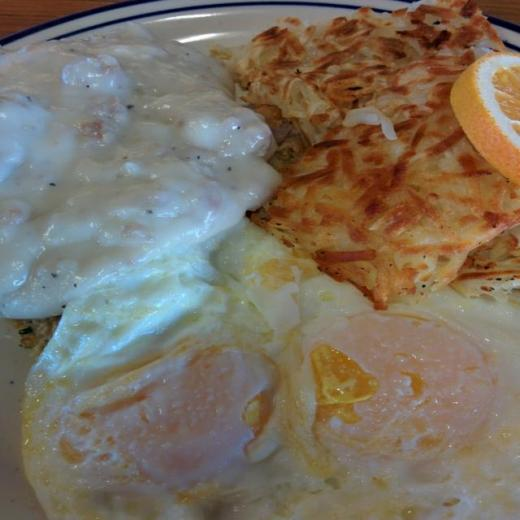Grape: (452, 49, 520, 182)
